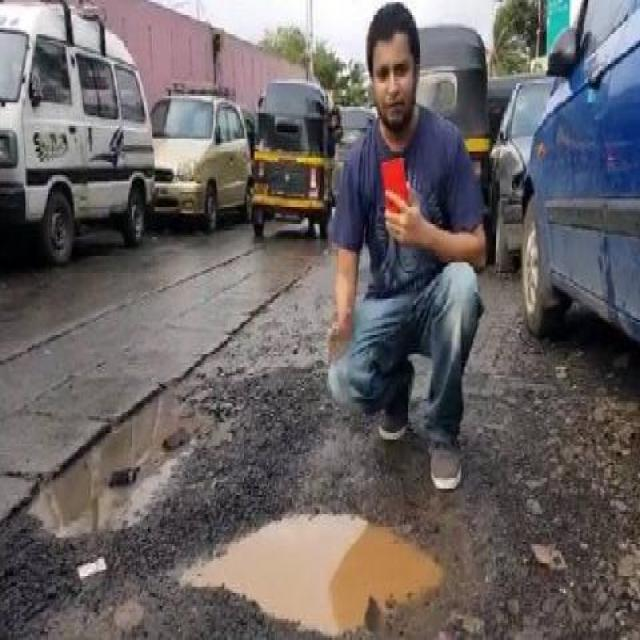Pothole: (178, 502, 449, 635), (25, 385, 225, 537)
